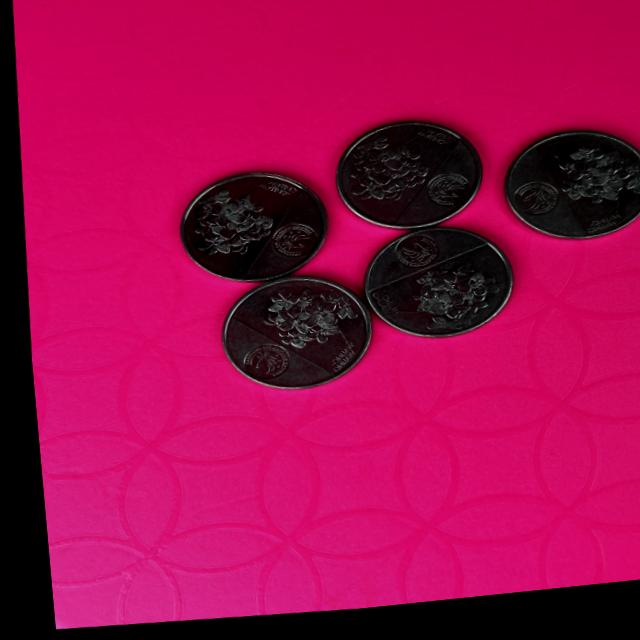1_New_Back: (337, 119, 451, 213), (541, 139, 640, 234), (376, 267, 485, 345), (243, 280, 338, 364), (186, 186, 275, 262)
